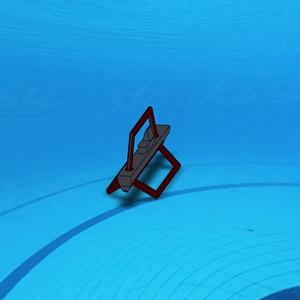submarine: (104, 112, 183, 199)
